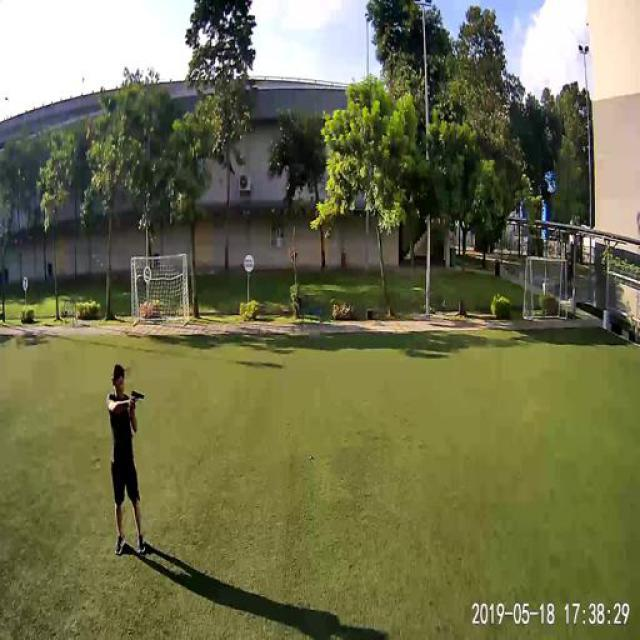Gun: (127, 388, 145, 408)
